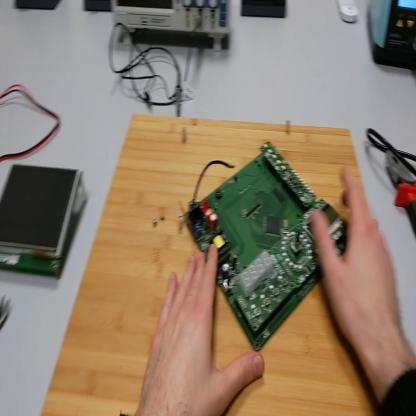hand: (140, 246, 266, 416), (312, 163, 404, 361)
low voltage board: (184, 142, 355, 354)
oscilloscope: (112, 2, 233, 52)
pliers: (387, 150, 416, 235), (1, 294, 13, 329)
socket: (14, 2, 62, 11), (84, 1, 113, 13)
welder station: (370, 2, 416, 71)
working area: (41, 103, 382, 416)
